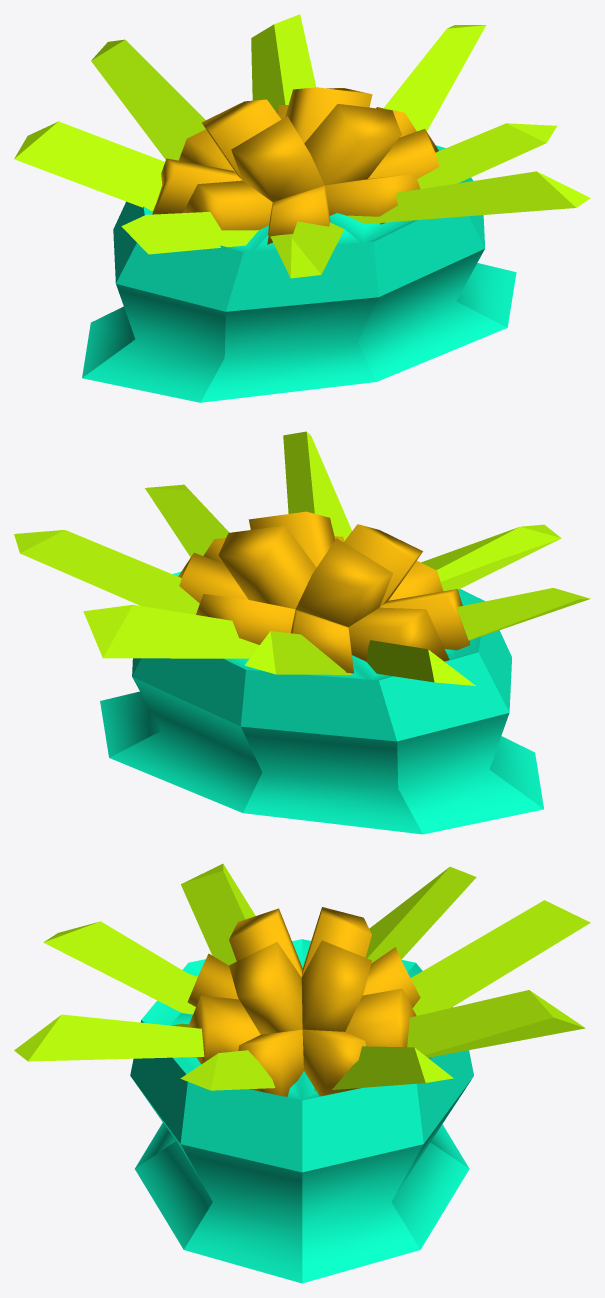
The model's file is plante_4_etape_2.fbx.
The picture shows the model from 3 angles, top to bottom: view 1: azimuth 30°, elevation 25°; view 2: azimuth 150°, elevation 25°; view 3: azimuth 270°, elevation 25°; orthographic projection. The views are drawn at different scales.
Parts seen in each view (by area): view 1: stage_2; view 2: stage_2; view 3: stage_2.
Boxes of the visible parts, x1=… form: stage_2: x1=14, y1=14, x2=590, y2=402; stage_2: x1=14, y1=431, x2=590, y2=834; stage_2: x1=14, y1=863, x2=590, y2=1283.
Size of the model in its own units: 4.57 by 2.15 by 4.57.
